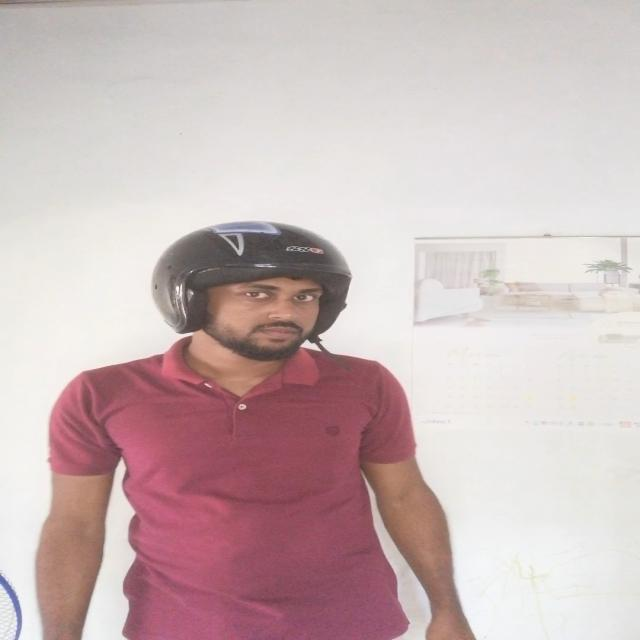Helmet_Wearer: (121, 213, 375, 385)
